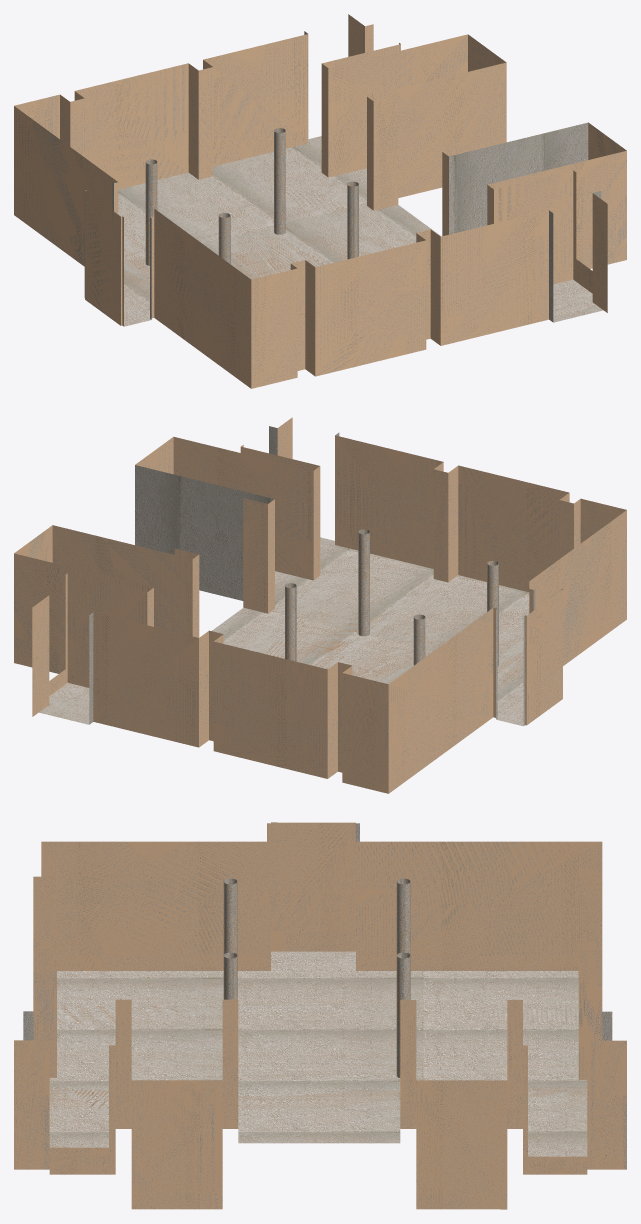
The model's file is COM002.obj.
The picture shows the model from 3 angles, top to bottom: view 1: azimuth 30°, elevation 25°; view 2: azimuth 150°, elevation 25°; view 3: azimuth 270°, elevation 25°; orthographic projection. The views are drawn at different scales.
Parts seen in each view (by area): view 1: Mesh1 COM002 Model, Mesh2 COM002 Model, Mesh5 COM002 Model, Mesh3 COM002 Model, Mesh4 COM002 Model; view 2: Mesh1 COM002 Model, Mesh3 COM002 Model, Mesh2 COM002 Model, Mesh4 COM002 Model, Mesh5 COM002 Model; view 3: Mesh1 COM002 Model, Mesh5 COM002 Model, Mesh4 COM002 Model, Mesh2 COM002 Model, Mesh3 COM002 Model.
Part boxes in pixels (bbox=[...]): Mesh1 COM002 Model: bbox=[14, 14, 626, 388]; Mesh2 COM002 Model: bbox=[274, 128, 285, 234]; Mesh5 COM002 Model: bbox=[145, 159, 157, 265]; Mesh3 COM002 Model: bbox=[347, 181, 358, 259]; Mesh4 COM002 Model: bbox=[218, 213, 230, 263]; Mesh1 COM002 Model: bbox=[14, 417, 626, 793]; Mesh3 COM002 Model: bbox=[358, 529, 369, 636]; Mesh2 COM002 Model: bbox=[285, 583, 296, 661]; Mesh4 COM002 Model: bbox=[487, 561, 498, 666]; Mesh5 COM002 Model: bbox=[413, 614, 425, 665]; Mesh1 COM002 Model: bbox=[14, 822, 626, 1209]; Mesh5 COM002 Model: bbox=[396, 878, 410, 954]; Mesh4 COM002 Model: bbox=[223, 878, 237, 954]; Mesh2 COM002 Model: bbox=[396, 952, 410, 1077]; Mesh3 COM002 Model: bbox=[223, 952, 237, 999].
Bounding box in the file's own units: 15.41 × 3.85 × 15.48.
Materials: 5 (3 with a texture image).
